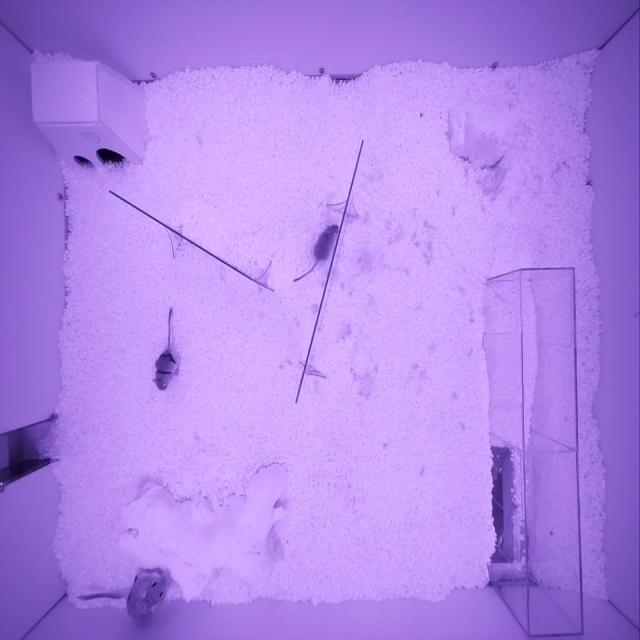adult_back: (127, 568, 169, 619)
pup_fluffy: (314, 224, 339, 261)
pup_h_stripe: (152, 349, 179, 390)
